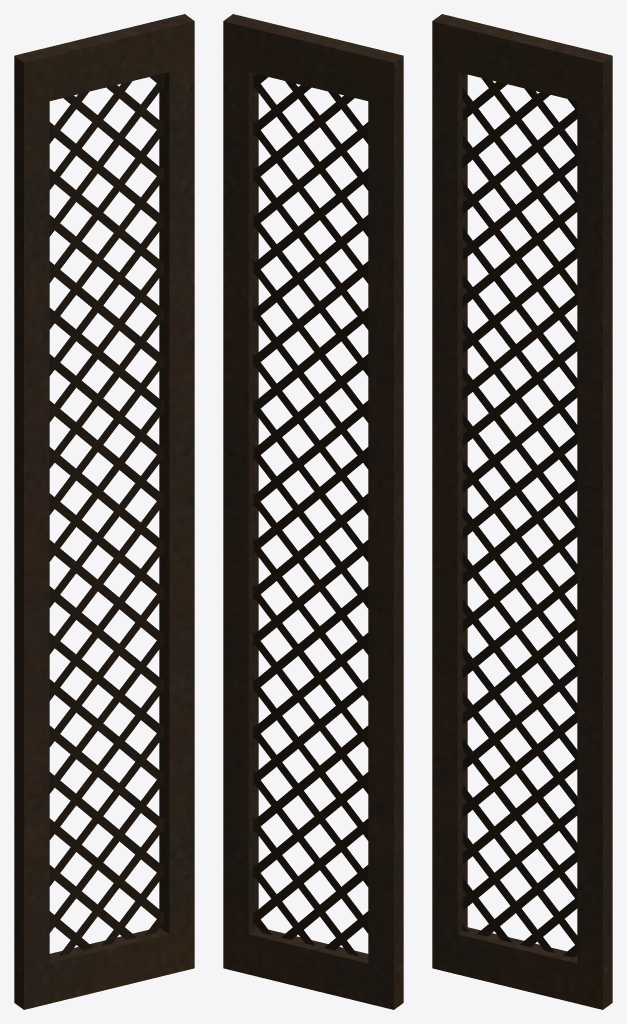
The model's file is fence_e_pillar_1.obj.
3 views of the same model, side by side, from view 1: azimuth 30°, elevation 25°; view 2: azimuth 150°, elevation 25°; view 3: azimuth 330°, elevation 25° (orthographic).
Visible parts, largest first — view 1: fence_e_pillar_1; view 2: fence_e_pillar_1; view 3: fence_e_pillar_1.
Part boxes in pixels (box(x1,y1,x2,y2)): fence_e_pillar_1: box(14, 14, 194, 1009); fence_e_pillar_1: box(223, 14, 403, 1009); fence_e_pillar_1: box(432, 14, 612, 1009).
Bounding box in the file's own units: 0.4 × 2.12 × 0.04.
